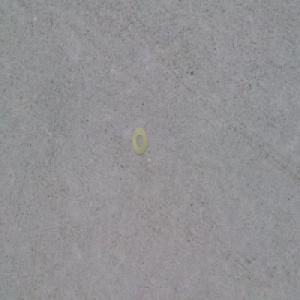Washer: (133, 126, 149, 156)
